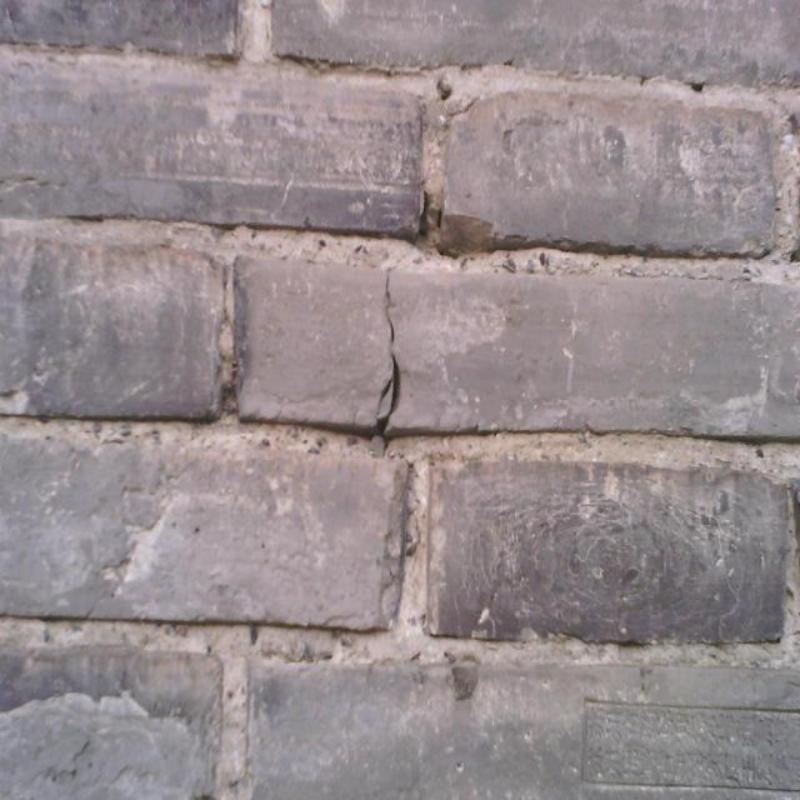pothole: (376, 353, 402, 433), (384, 274, 395, 344)
